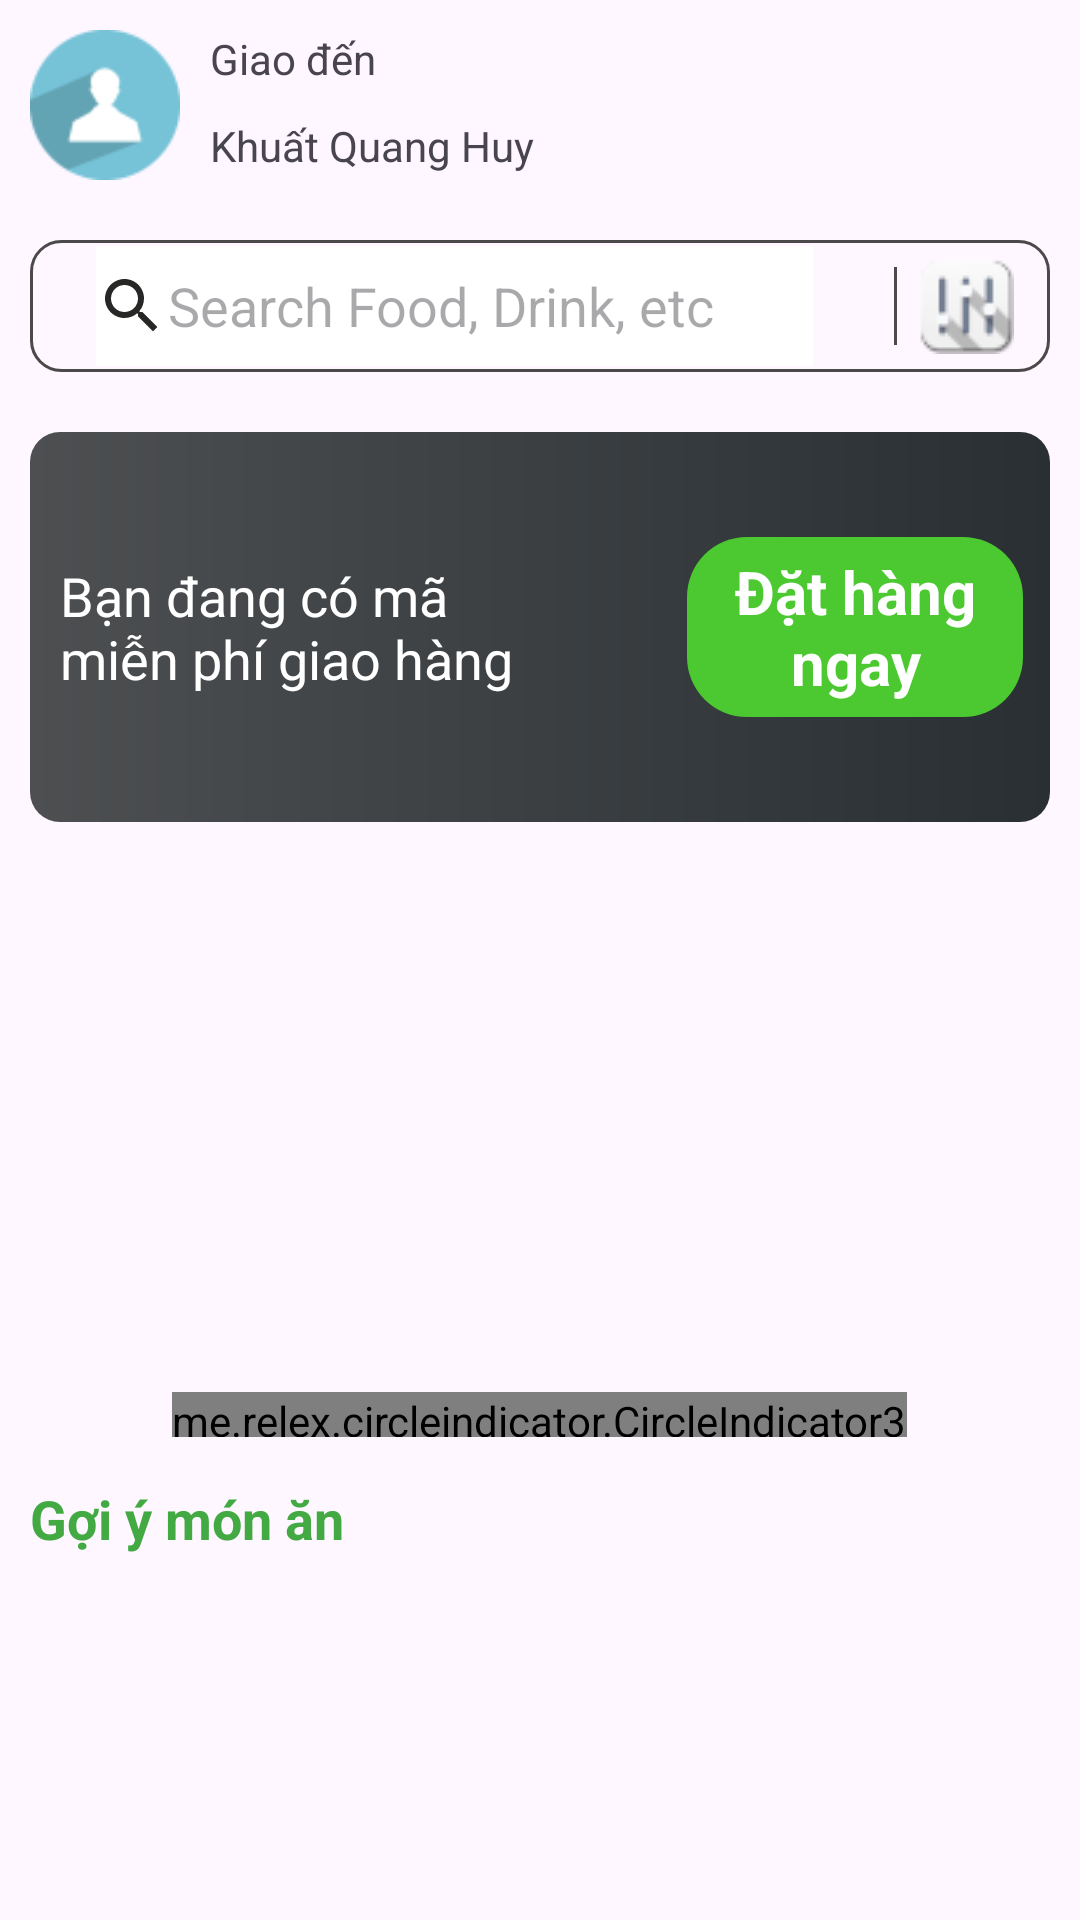

Named icons in this screenshot (1080 x 1920) and their centers, (x,y):
iconperson: (105,105)
setting: (967,307)
